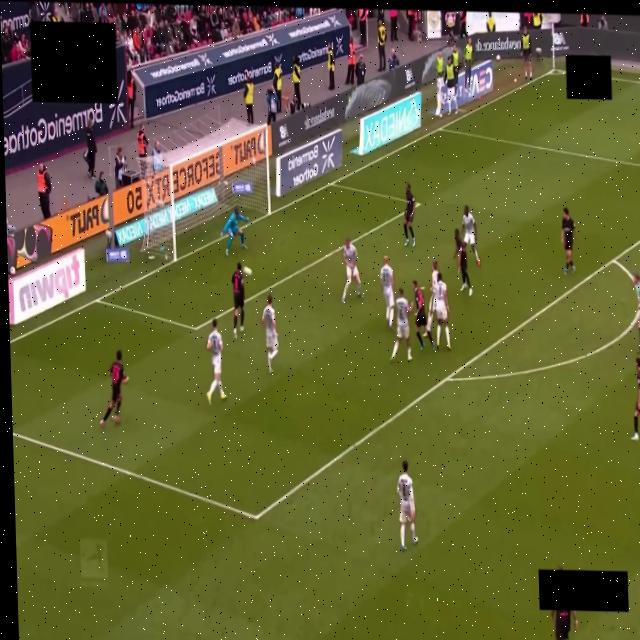ball: (243, 267, 251, 276)
player: (99, 350, 127, 427), (397, 461, 417, 551), (206, 319, 226, 403), (390, 289, 411, 360), (433, 274, 450, 350), (221, 207, 247, 256), (261, 295, 277, 373), (453, 229, 471, 296), (342, 240, 361, 302), (423, 260, 438, 336), (462, 205, 480, 265), (231, 262, 244, 340), (380, 256, 394, 328), (561, 208, 576, 274), (412, 281, 426, 350), (551, 611, 577, 639), (403, 184, 414, 247), (631, 358, 639, 441)
referee: (633, 275, 639, 337)
